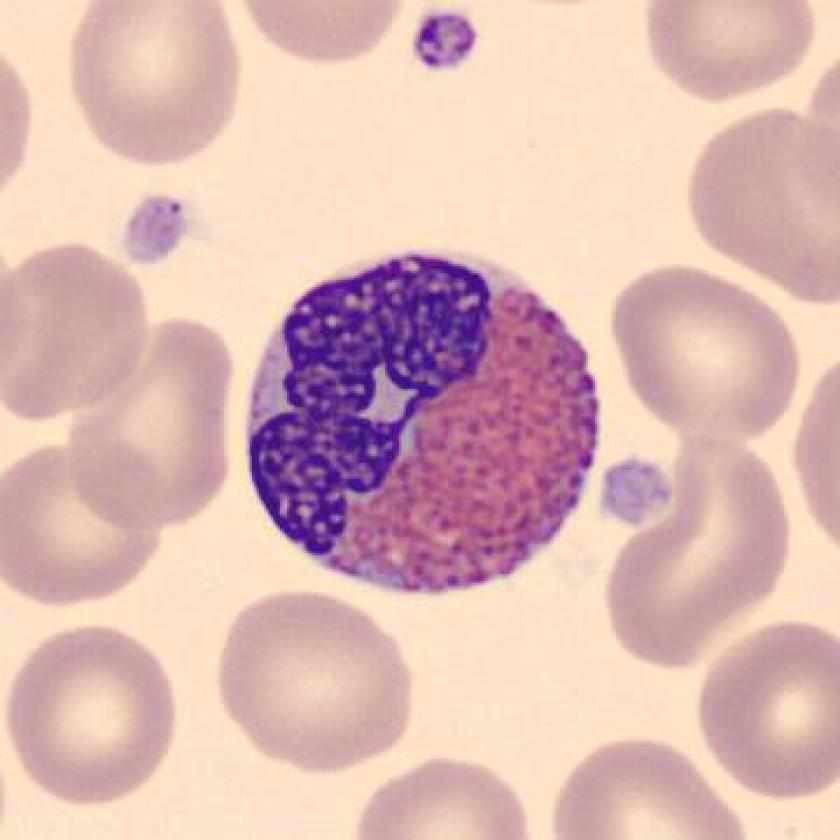eosinophil: (227, 240, 617, 601)
